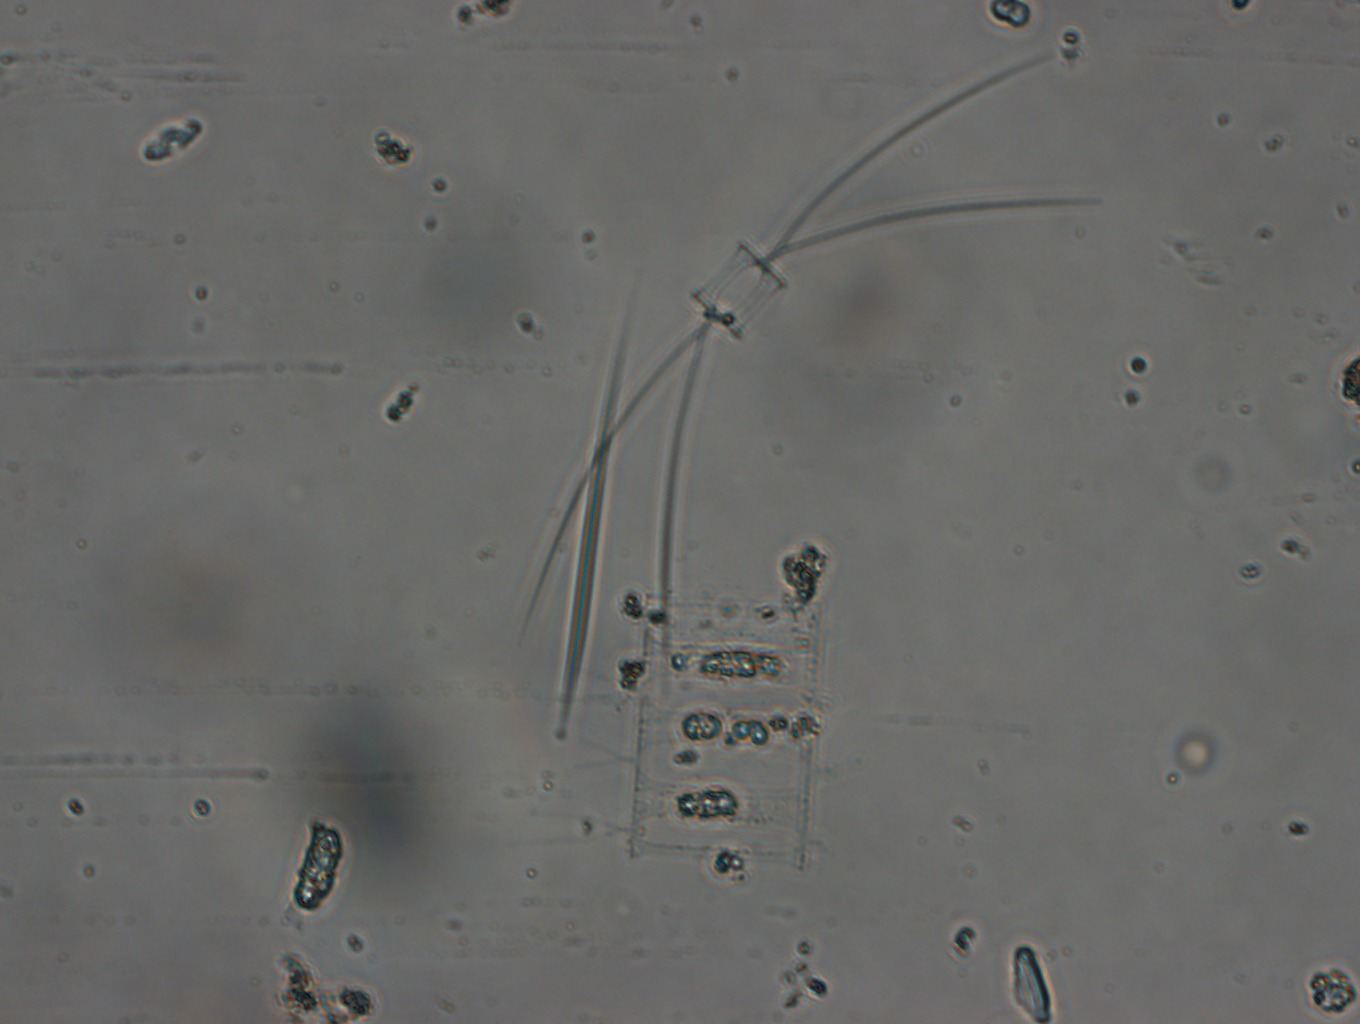chaetoceros: (519, 39, 1077, 672)
